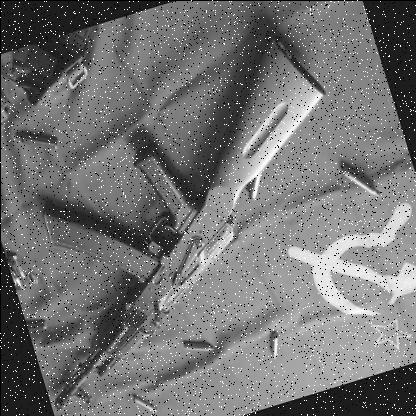rifle: (0, 1, 410, 416)
